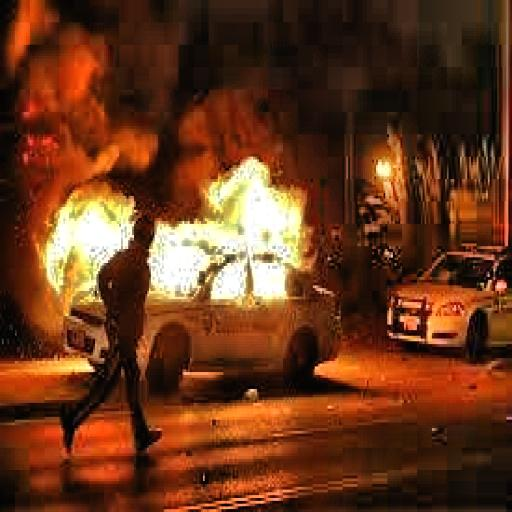fire: (46, 148, 326, 319)
